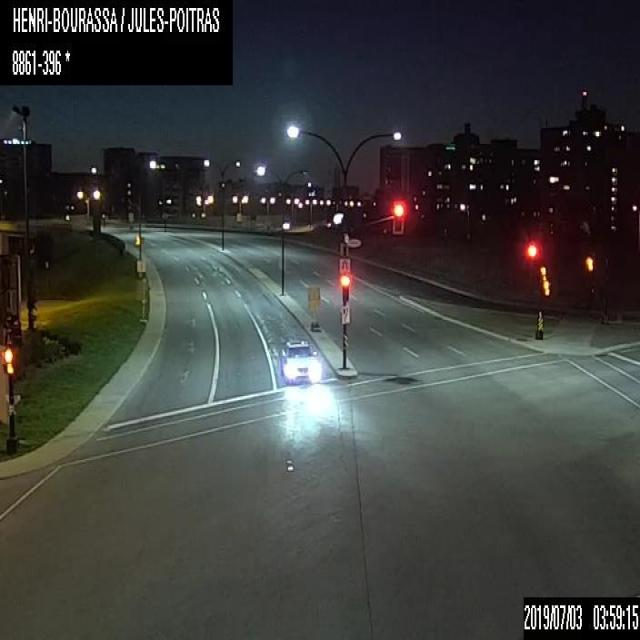vehicle: (278, 337, 322, 384)
